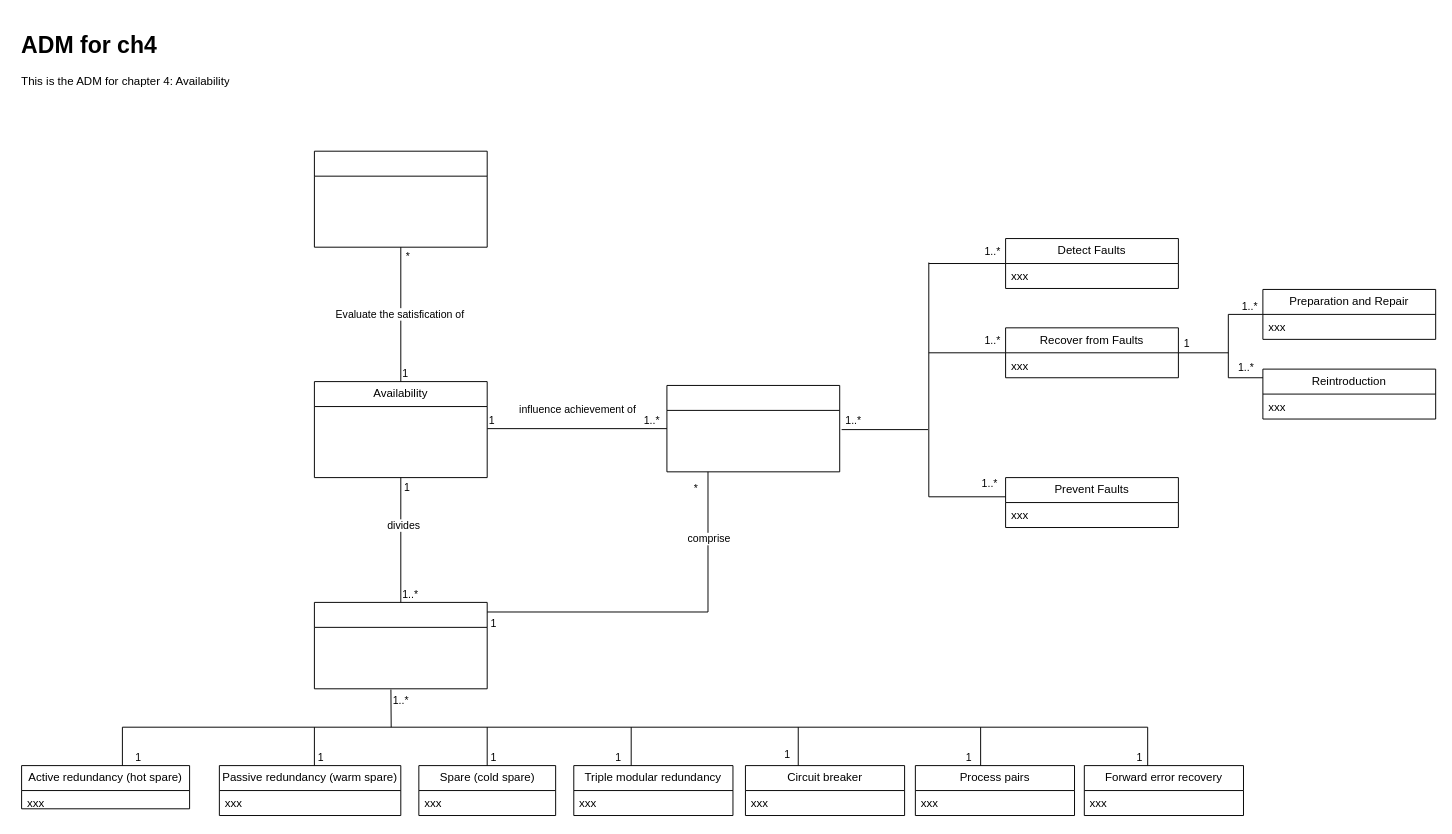
Some shapes in this 1452 by 834 pixel diagram are drawn without their labels. Each missing label, with the centre of its shape:
"Availability Tactics" goes at [753,428].
"Patterns" goes at [400,645].
"Tactic-Based Questionnaries" goes at [400,198].
